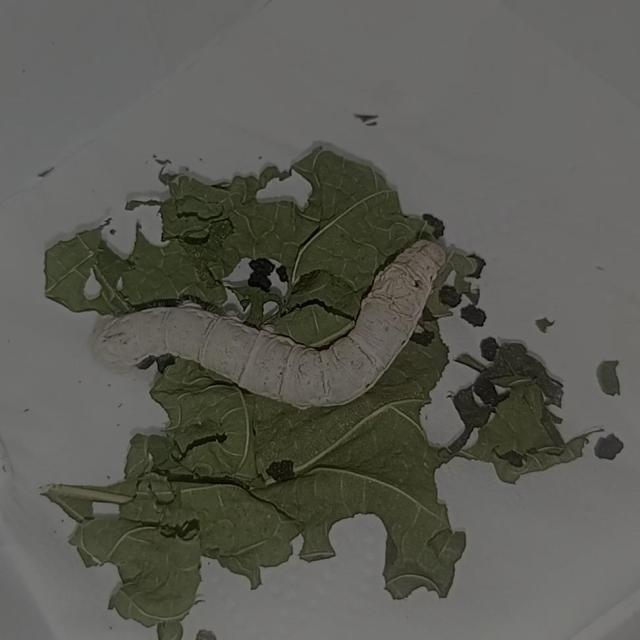Healthy: (67, 210, 467, 407)
